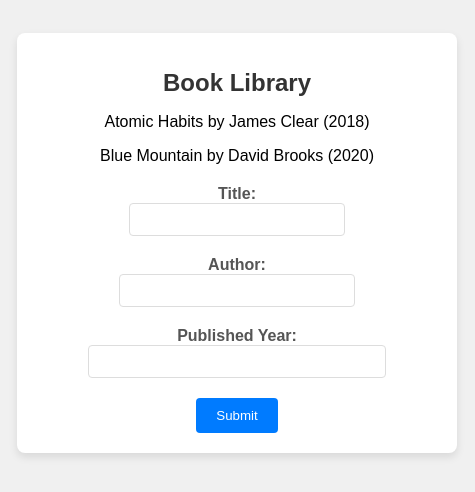
Scenario: submit button is enabled when all input fields have text
The width and height of the screenshot is (475, 492).
Expected: the button "Submit" is disabled, x1=196 y1=398 x2=278 y2=433
Type "Test Book" into the field labelled "Title:" at (237, 220), box x1=128 y1=203 x2=345 y2=236
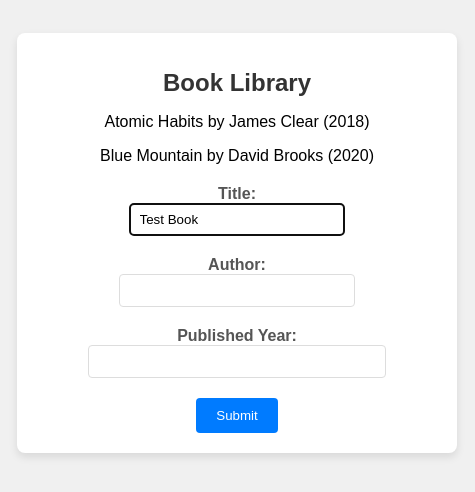
Type "Test Author" into the field labelled "Author:" at (237, 291), box x1=119 y1=274 x2=355 y2=307
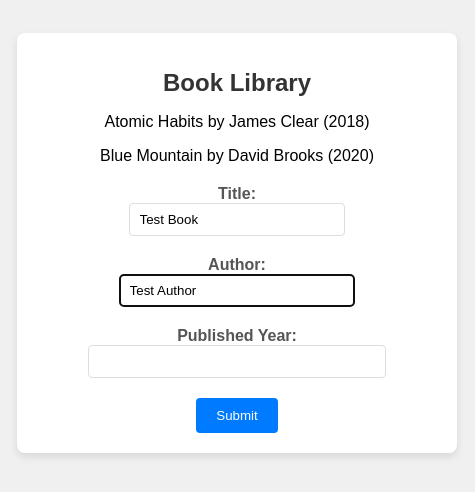
Type "2024" into the field labelled "Published Year:" at (237, 362), box x1=88 y1=345 x2=386 y2=378
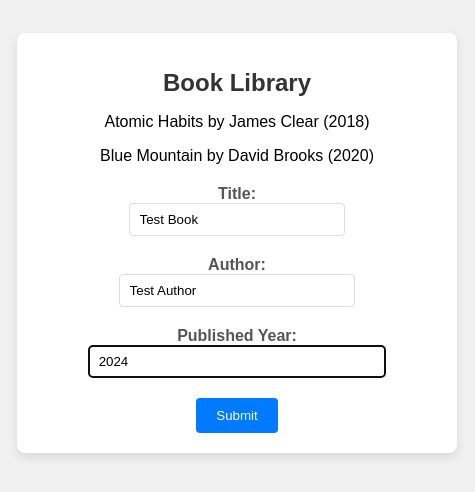
Click the button "Submit" at (237, 416), box x1=196 y1=398 x2=278 y2=433
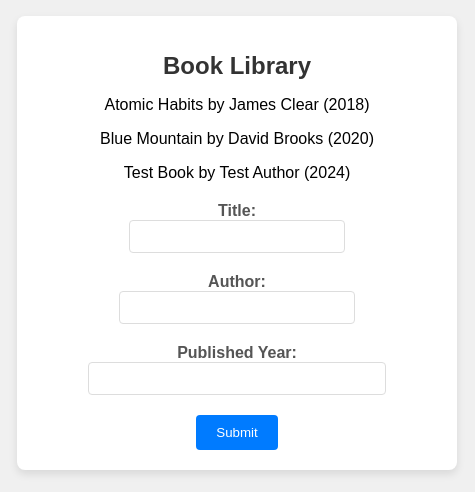
Expected: the button "Submit" is disabled, x1=196 y1=415 x2=278 y2=450
